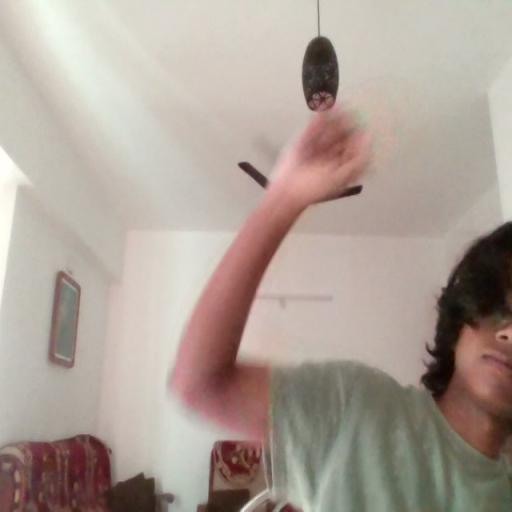Rock: (282, 103, 357, 192)
